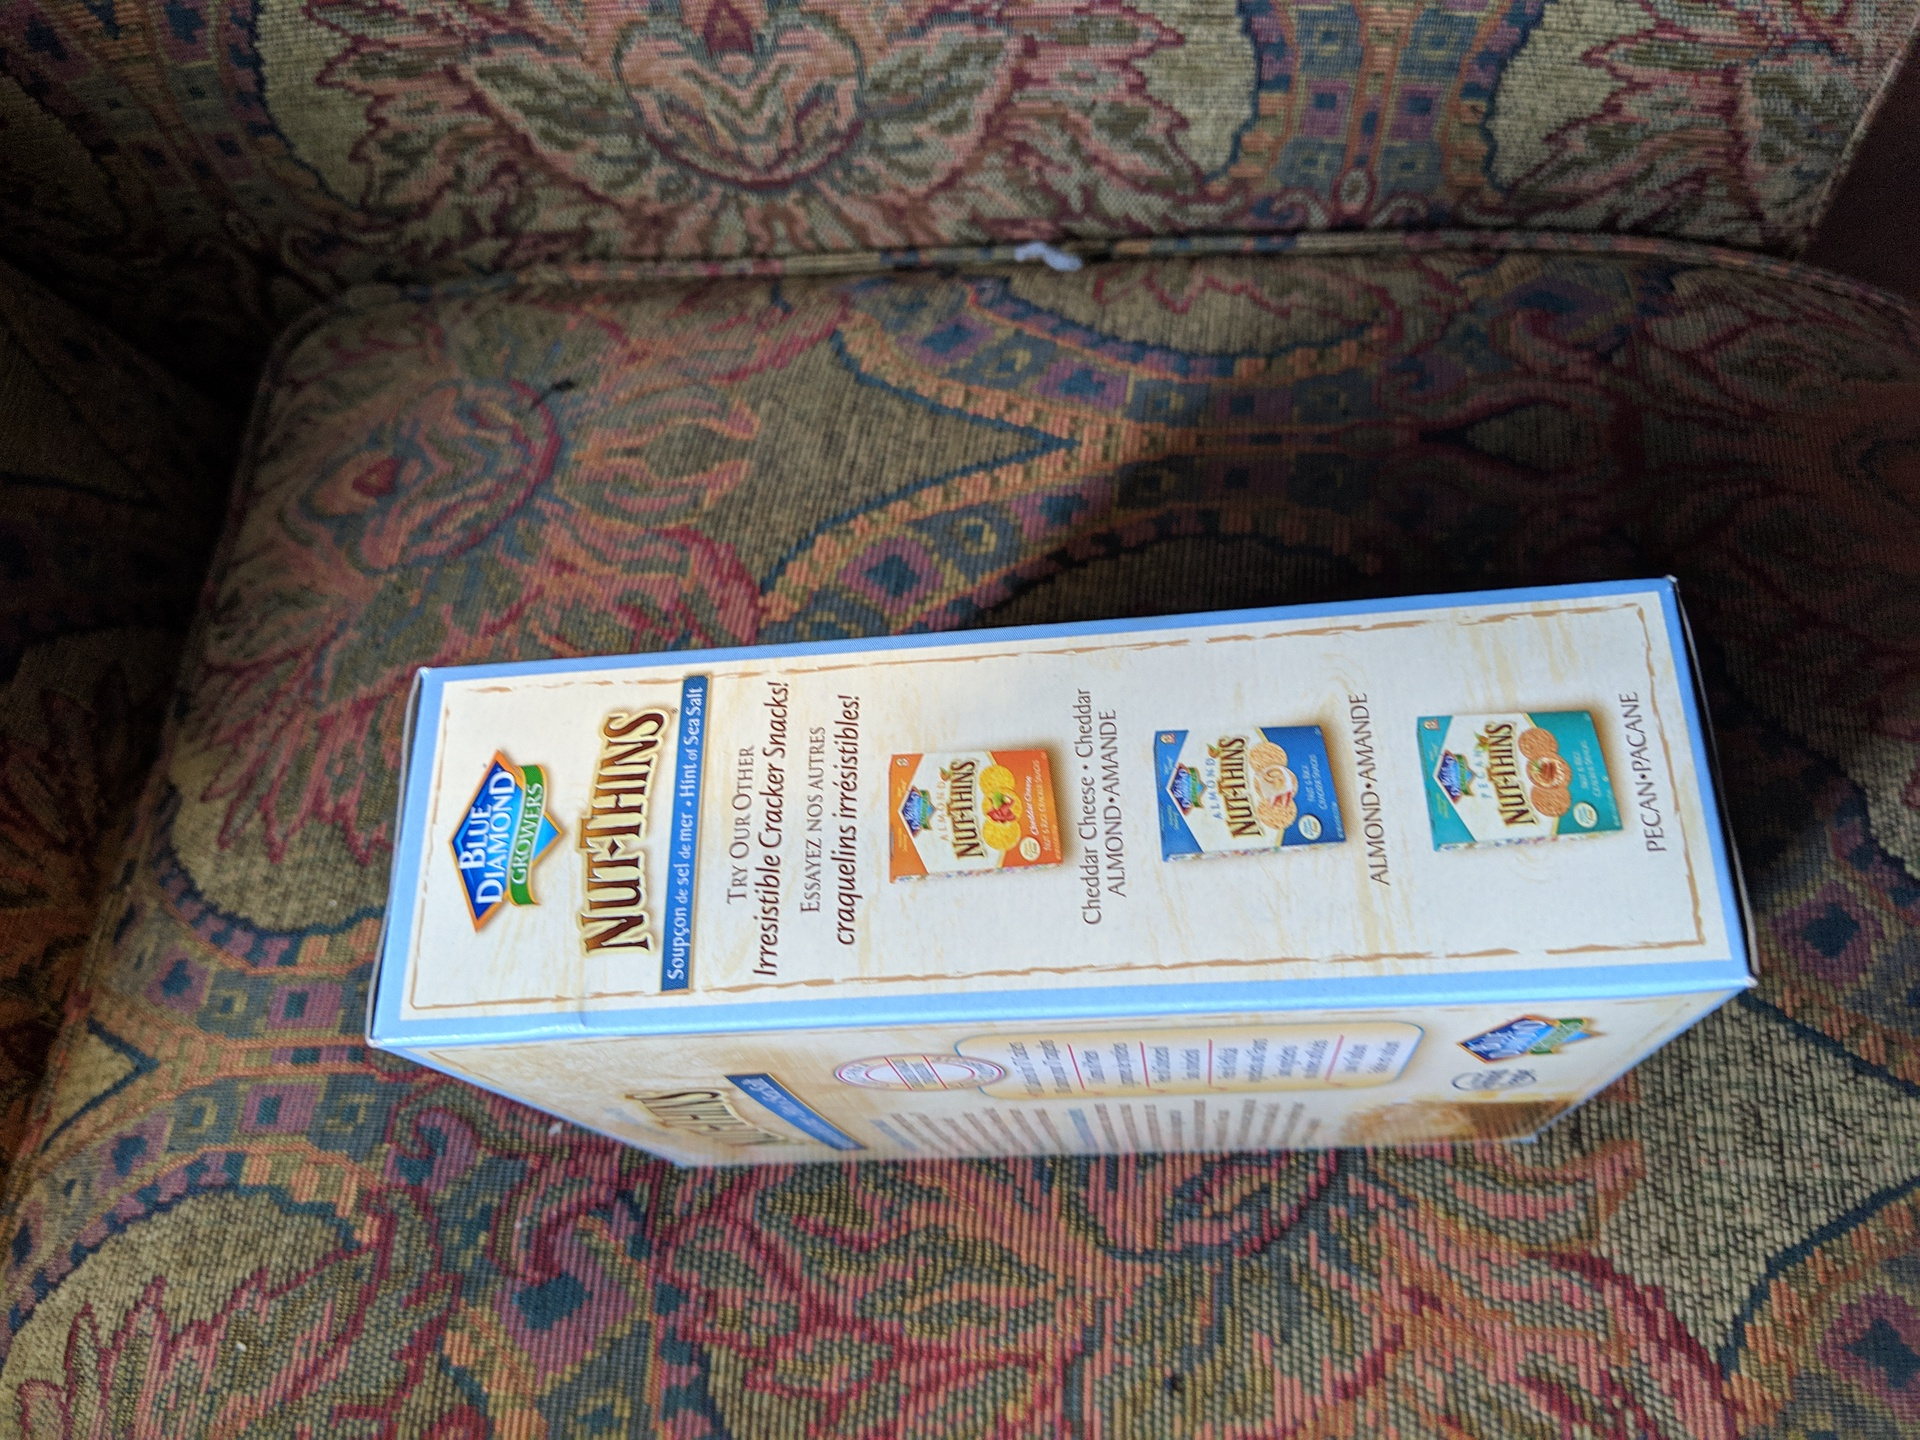blue_diamond_nut_thins_almond_seasalt: (408, 610, 1720, 1148)
